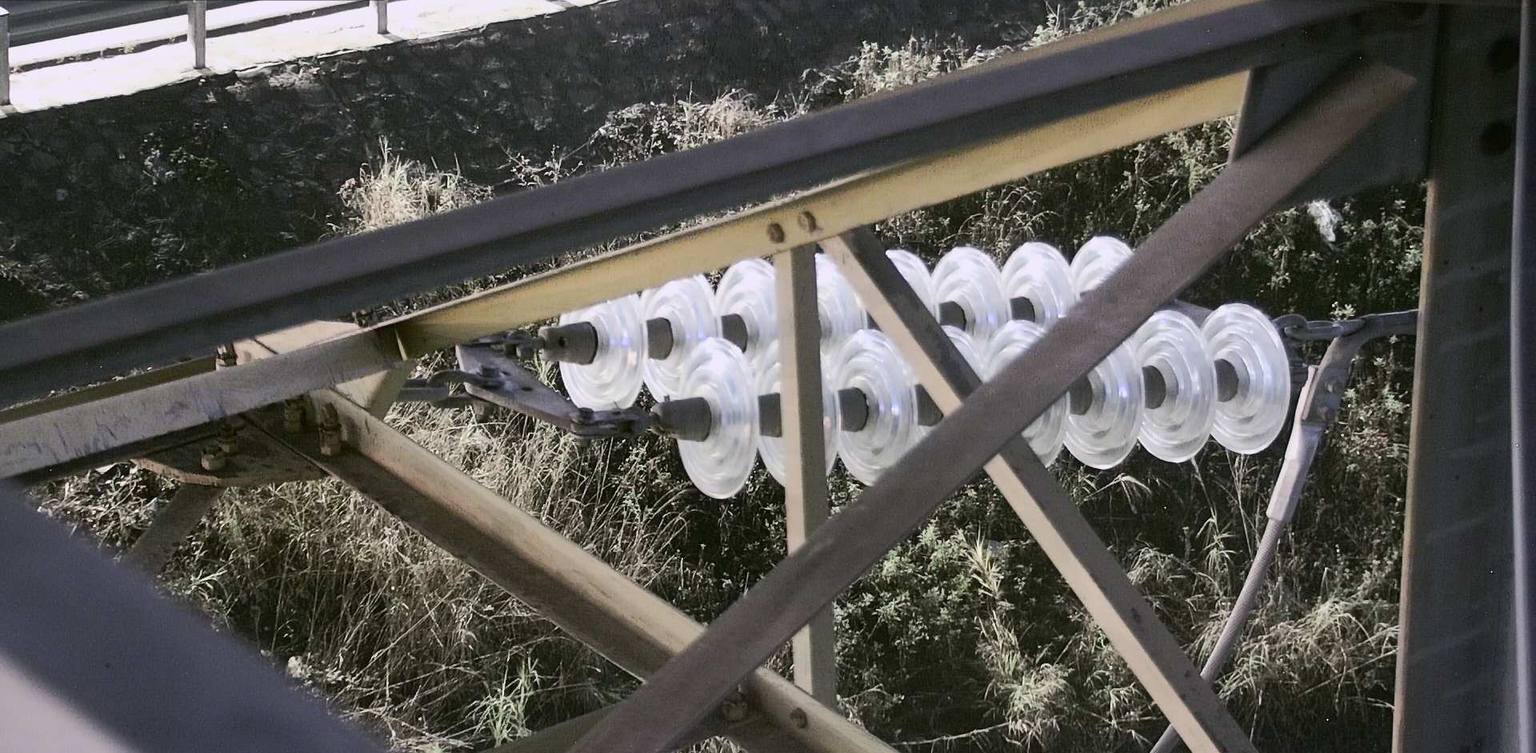绝缘子污闪: (889, 399, 901, 418), (1116, 383, 1127, 399), (607, 336, 615, 350), (695, 330, 707, 339), (877, 402, 886, 414), (621, 335, 630, 346), (986, 313, 995, 324), (684, 333, 690, 343)
